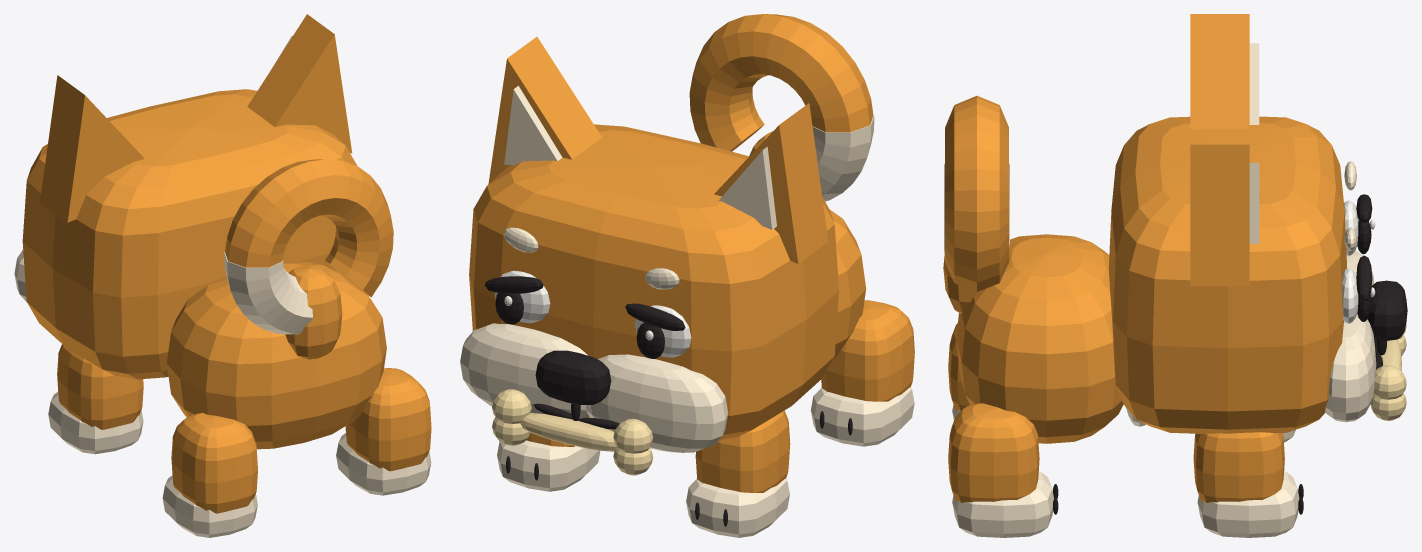
Rendered from Shiba_Rounded.glb.
3 renders of one model, left to right at view 1: azimuth 30°, elevation 25°; view 2: azimuth 150°, elevation 25°; view 3: azimuth 270°, elevation 25°, orthographic. The views are drawn at different scales.
Parts seen in each view (by area): view 1: BigHead, ShortTorso, TailCurl, EarL, EarR, LegBL_Leg, LegBR_Leg, LegFL_Leg, TailCreamTip, TailRoot, LegFL_Paw, LegBL_Paw (+1 smaller); view 2: BigHead, TailCurl, CheekL, EarL, LegBL_Leg, EarR, CheekR, LegFL_Leg, LegBL_Paw, LegFL_Paw, LegFR_Paw, BigNose (+17 smaller); view 3: BigHead, ShortTorso, TailCurl, EarR, LegBR_Leg, EarL, LegFR_Leg, CheekR, LegFR_Paw, LegBR_Paw, BigNose, BoneKnuckle1_1 (+7 smaller).
Part boxes in pixels (x1,y1,x2,y2): BigHead: (22, 89, 357, 379); ShortTorso: (166, 262, 386, 449); TailCurl: (225, 159, 393, 297); EarL: (40, 75, 144, 222); EarR: (247, 14, 352, 153); LegBL_Leg: (171, 413, 257, 513); LegBR_Leg: (345, 368, 431, 471); LegFL_Leg: (57, 344, 143, 429); TailCreamTip: (224, 252, 312, 334); TailRoot: (285, 265, 342, 359); LegFL_Paw: (48, 392, 143, 454); LegBL_Paw: (162, 475, 257, 537); BigHead: (469, 124, 838, 439); TailCurl: (689, 14, 873, 151); CheekL: (586, 354, 728, 452); EarL: (714, 103, 828, 263); LegBL_Leg: (821, 300, 914, 401); EarR: (488, 36, 602, 183); CheekR: (460, 323, 589, 418); LegFL_Leg: (695, 410, 790, 492); LegBL_Paw: (810, 387, 914, 446); LegFL_Paw: (686, 478, 789, 537); LegFR_Paw: (497, 440, 600, 491); BigNose: (535, 350, 611, 404); BigHead: (1108, 116, 1346, 433); ShortTorso: (956, 234, 1123, 443); TailCurl: (945, 95, 1008, 291); EarR: (1190, 144, 1249, 286); LegBR_Leg: (948, 403, 1039, 502); EarL: (1190, 14, 1249, 129); LegFR_Leg: (1193, 432, 1284, 502); CheekR: (1325, 314, 1376, 422); LegFR_Paw: (1197, 471, 1299, 537); LegBR_Paw: (952, 471, 1053, 537); BigNose: (1367, 280, 1407, 340); BoneKnuckle1_1: (1373, 365, 1406, 399).
Bounding box in the file's own units: 2.2 × 2.78 × 2.9.
